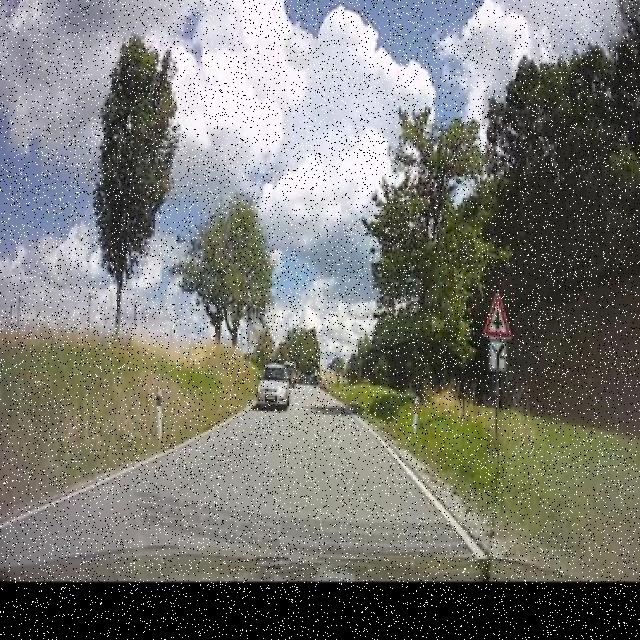clear-road: (0, 387, 442, 568)
